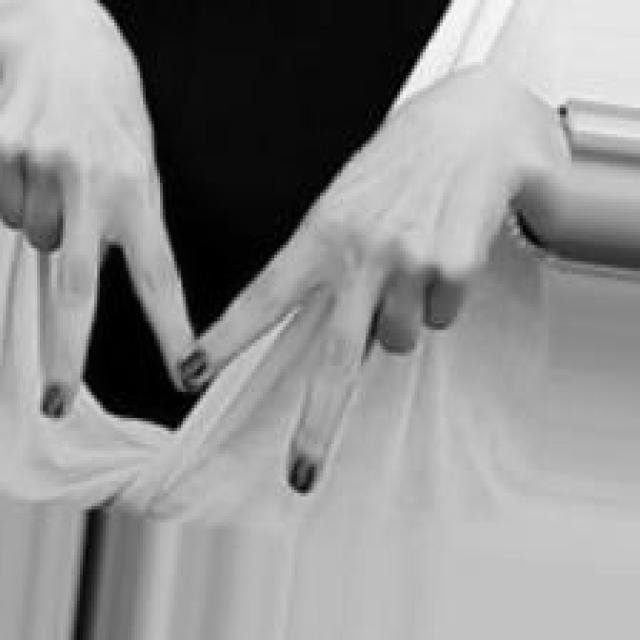M: (0, 0, 528, 496)
